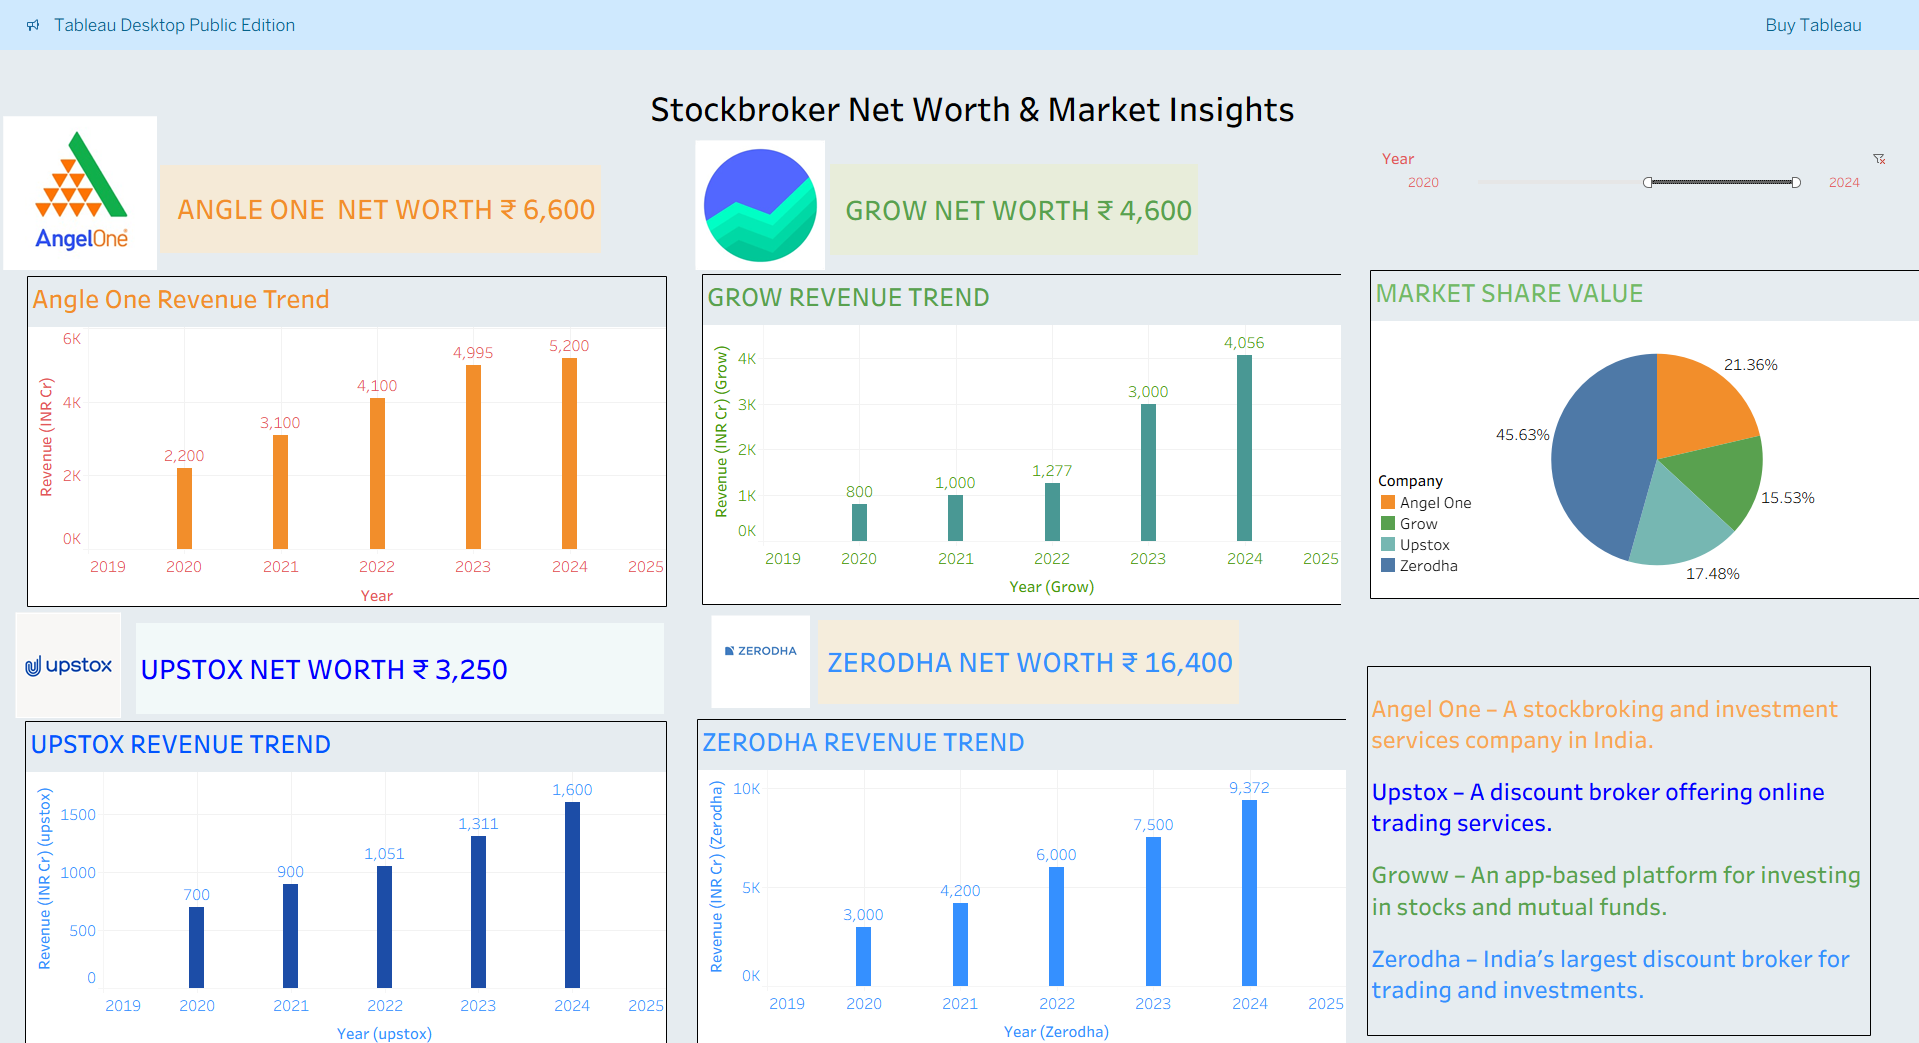

This screenshot's page, from the dashboard's own definition file:
{"tool":"tableau","page":{"name":"Dashboard 2","canvas":[1000,1000],"units":"permille","ordinal":1},"visuals":[{"type":"text","box":[336.9,4.7,402.5,104.5]},{"type":"image","param":"Image/IMG-20250917-WA0029.jpg","box":[1.6,63.9,80,162.6]},{"type":"image","param":"Image/IMG-20250917-WA0028.jpg","box":[342.7,90.6,106.5,131.2]},{"type":"filter","title":"Sheet 1","param":"[federated.19bdsbw06x80741b1lqpw1bcte57].[none:Year:qk]","box":[720,98.7,263.7,113.8]},{"type":"worksheet","title":"Sheet 5 (2)","mark":"Automatic","box":[432.2,115,221.4,91.8]},{"type":"worksheet","title":"Sheet 5","mark":"Automatic","box":[83.3,116.1,266.1,88.3]},{"type":"worksheet","title":"Sheet 2","mark":"Bar","rows":["Revenue (INR Cr) (Grow)"],"cols":["Year (Grow)"],"box":[365.5,225.3,333.2,333.3]},{"type":"worksheet","title":"Sheet 1","mark":"Bar","rows":["Revenue (INR Cr)"],"cols":["Year"],"box":[14.3,227.6,333.2,333.3]},{"type":"legend","title":"Sheet 6","param":"[federated.19bdsbw06x80741b1lqpw1bcte57].[none:Company:nk]","box":[717.6,422.8,83.9,123.1]},{"type":"image","param":"Image/4a8fc04a855b4e7a968e268b08543958.jpg","box":[326.5,569.1,138.8,94.1]},{"type":"worksheet","title":"Sheet 5 (4)","mark":"Automatic","box":[426.1,573.8,254.1,84.8]},{"type":"worksheet","title":"Sheet 5 (3)","mark":"Automatic","box":[70.6,577.2,275.2,91.8]},{"type":"text","box":[712.1,620.2,262.5,372.8]}]}

Visuals, with their boxes on the dashboard's canvas, which has no fixed pixel size, in thousandths of its width and height (x1, y1, x2, y2). These are canvas units, not pixel positions in the 1919x1043 screenshot, which may show the page scaled, cropped or inside an application window:
text: (337, 5, 739, 109)
image: (2, 64, 82, 226)
image: (343, 91, 449, 222)
"Sheet 1" filter: (720, 99, 984, 212)
"Sheet 5 (2)" worksheet: (432, 115, 654, 207)
"Sheet 5" worksheet: (83, 116, 349, 204)
"Sheet 2" worksheet (Bar marks): (366, 225, 699, 559)
"Sheet 1" worksheet (Bar marks): (14, 228, 348, 561)
"Sheet 6" legend: (718, 423, 802, 546)
image: (326, 569, 465, 663)
"Sheet 5 (4)" worksheet: (426, 574, 680, 659)
"Sheet 5 (3)" worksheet: (71, 577, 346, 669)
text: (712, 620, 975, 993)
